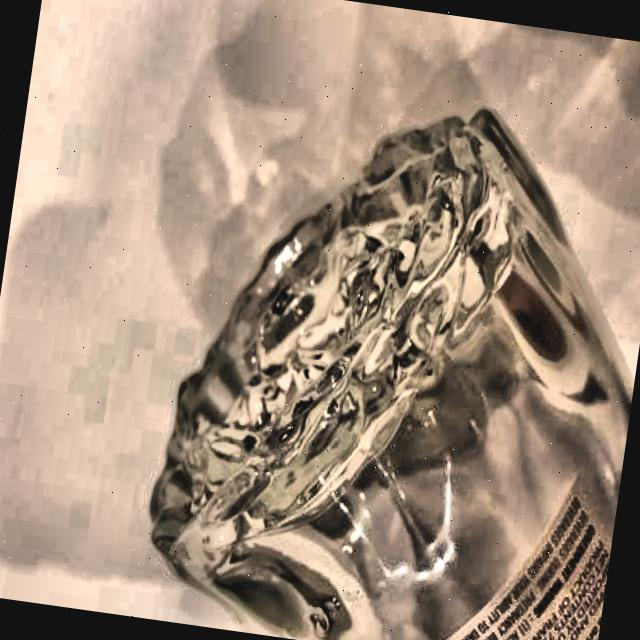glass: (138, 59, 640, 640)
